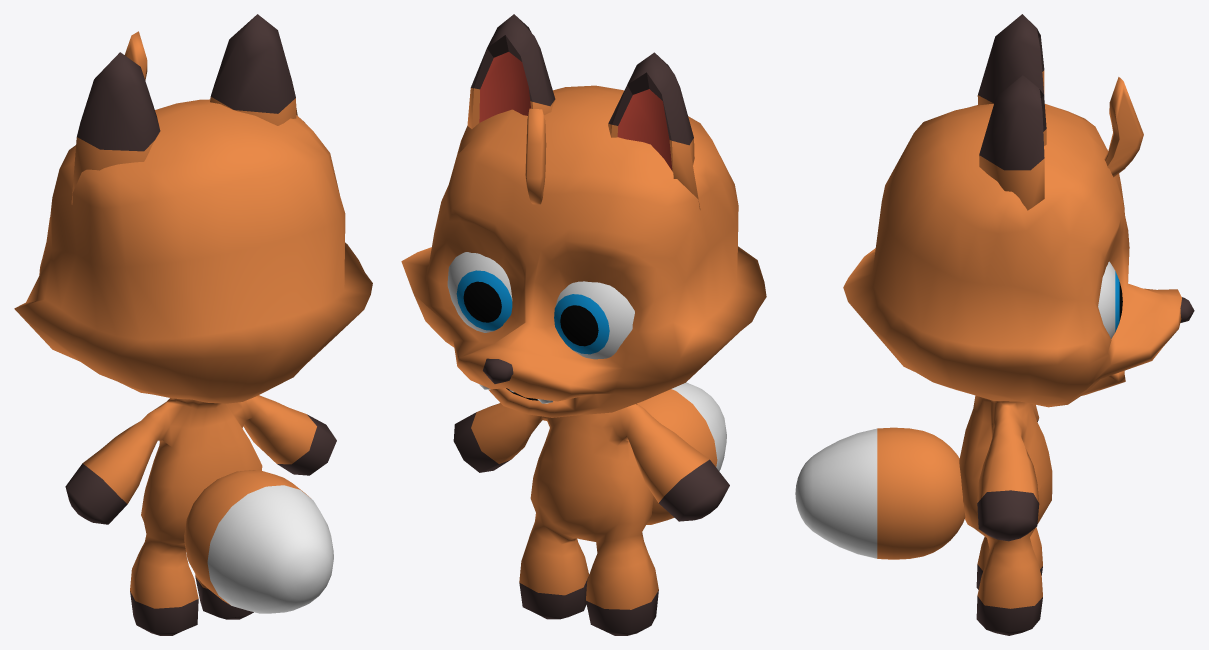
File: Pip.fbx
3 views of the same model, side by side, from view 1: azimuth 30°, elevation 25°; view 2: azimuth 150°, elevation 25°; view 3: azimuth 270°, elevation 25° (orthographic). The views are drawn at different scales.
Parts seen in each view (by area): view 1: polySurface6, pSphere5, pCube3, pCube2, pCube8; view 2: polySurface6, pCube3, pCube2, pSphere4, pSphere5, pSphere3, pCube8, pCube1; view 3: polySurface6, pSphere5, pCube2, pCube3, pCube8, pSphere3.
Part boxes in pixels (x1=…): polySurface6: x1=14, y1=99, x2=372, y2=635; pSphere5: x1=184, y1=470, x2=333, y2=613; pCube3: x1=71, y1=52, x2=160, y2=204; pCube2: x1=210, y1=14, x2=297, y2=125; pCube8: x1=125, y1=31, x2=147, y2=80; polySurface6: x1=401, y1=85, x2=766, y2=635; pCube3: x1=608, y1=52, x2=700, y2=209; pCube2: x1=467, y1=14, x2=555, y2=128; pSphere4: x1=554, y1=281, x2=634, y2=359; pSphere5: x1=637, y1=382, x2=726, y2=524; pSphere3: x1=447, y1=252, x2=512, y2=332; pCube8: x1=525, y1=108, x2=546, y2=204; pCube1: x1=483, y1=358, x2=513, y2=383; polySurface6: x1=843, y1=104, x2=1181, y2=635; pSphere5: x1=795, y1=427, x2=965, y2=559; pCube2: x1=979, y1=75, x2=1046, y2=210; pCube3: x1=977, y1=14, x2=1044, y2=105; pCube8: x1=1104, y1=77, x2=1143, y2=177; pSphere3: x1=1098, y1=261, x2=1122, y2=338.
Size of the model in its own units: 5.23 by 9.23 by 5.83.
